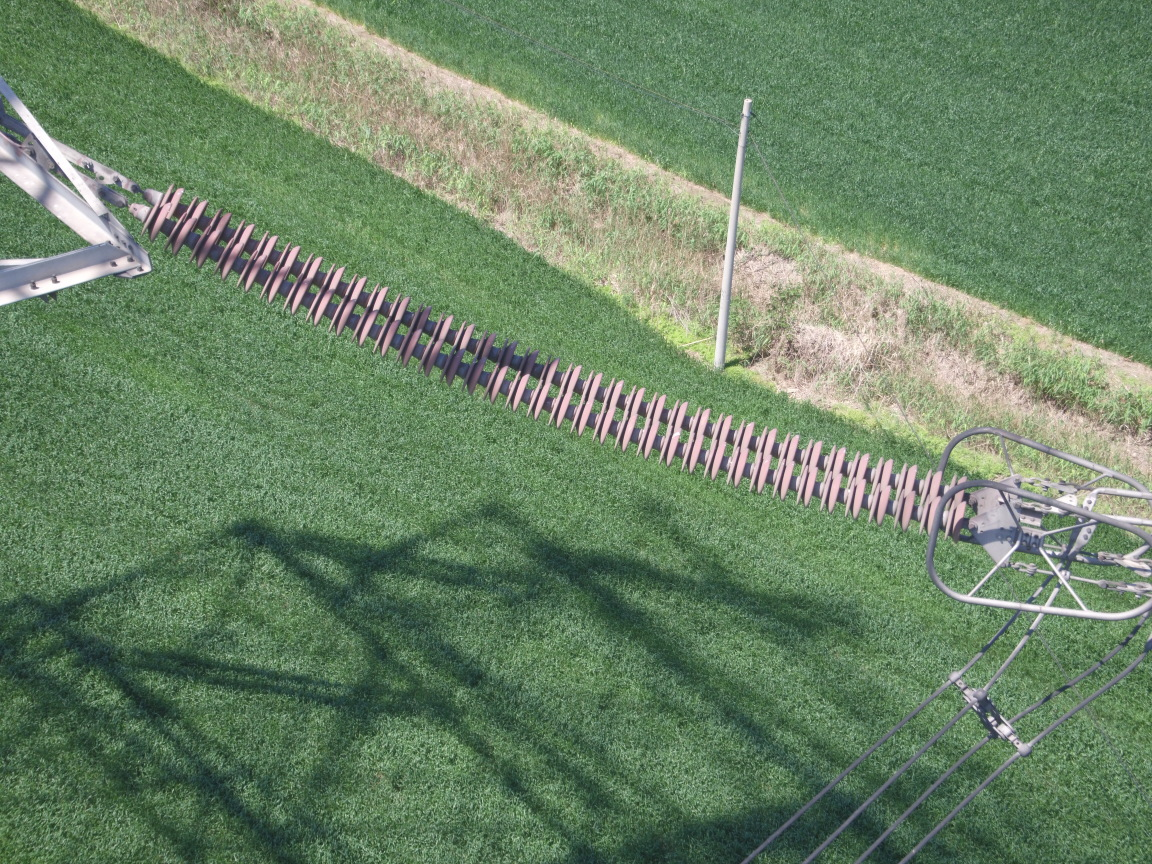insulator: (94, 173, 991, 547)
